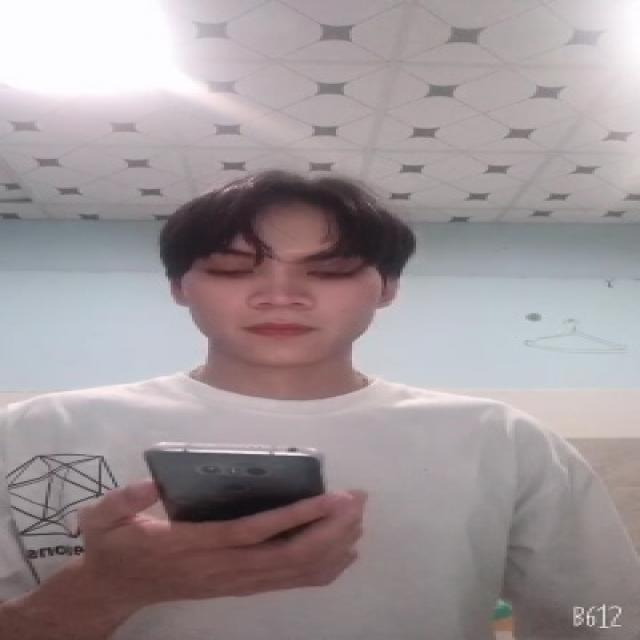Phone: (140, 438, 326, 527)
